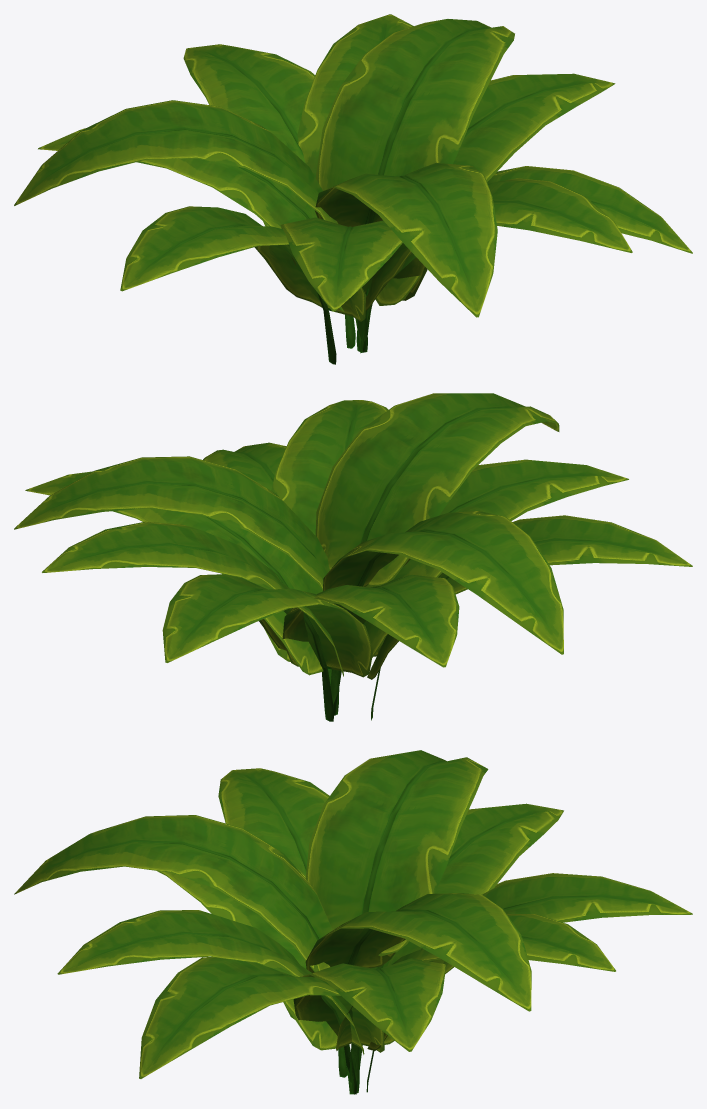
File: LongLeaf.fbx
3 views of the same model, one above another, from view 1: azimuth 30°, elevation 25°; view 2: azimuth 150°, elevation 25°; view 3: azimuth 270°, elevation 25° (orthographic).
Parts seen in each view (by area): view 1: LongLeaf; view 2: LongLeaf; view 3: LongLeaf.
Boxes of the visible parts, x1,y1,x2,y2 form: LongLeaf: (14, 14, 692, 364); LongLeaf: (14, 393, 692, 721); LongLeaf: (14, 750, 692, 1094).
Bounding box in the file's own units: 80.86 × 32.68 × 82.28.
